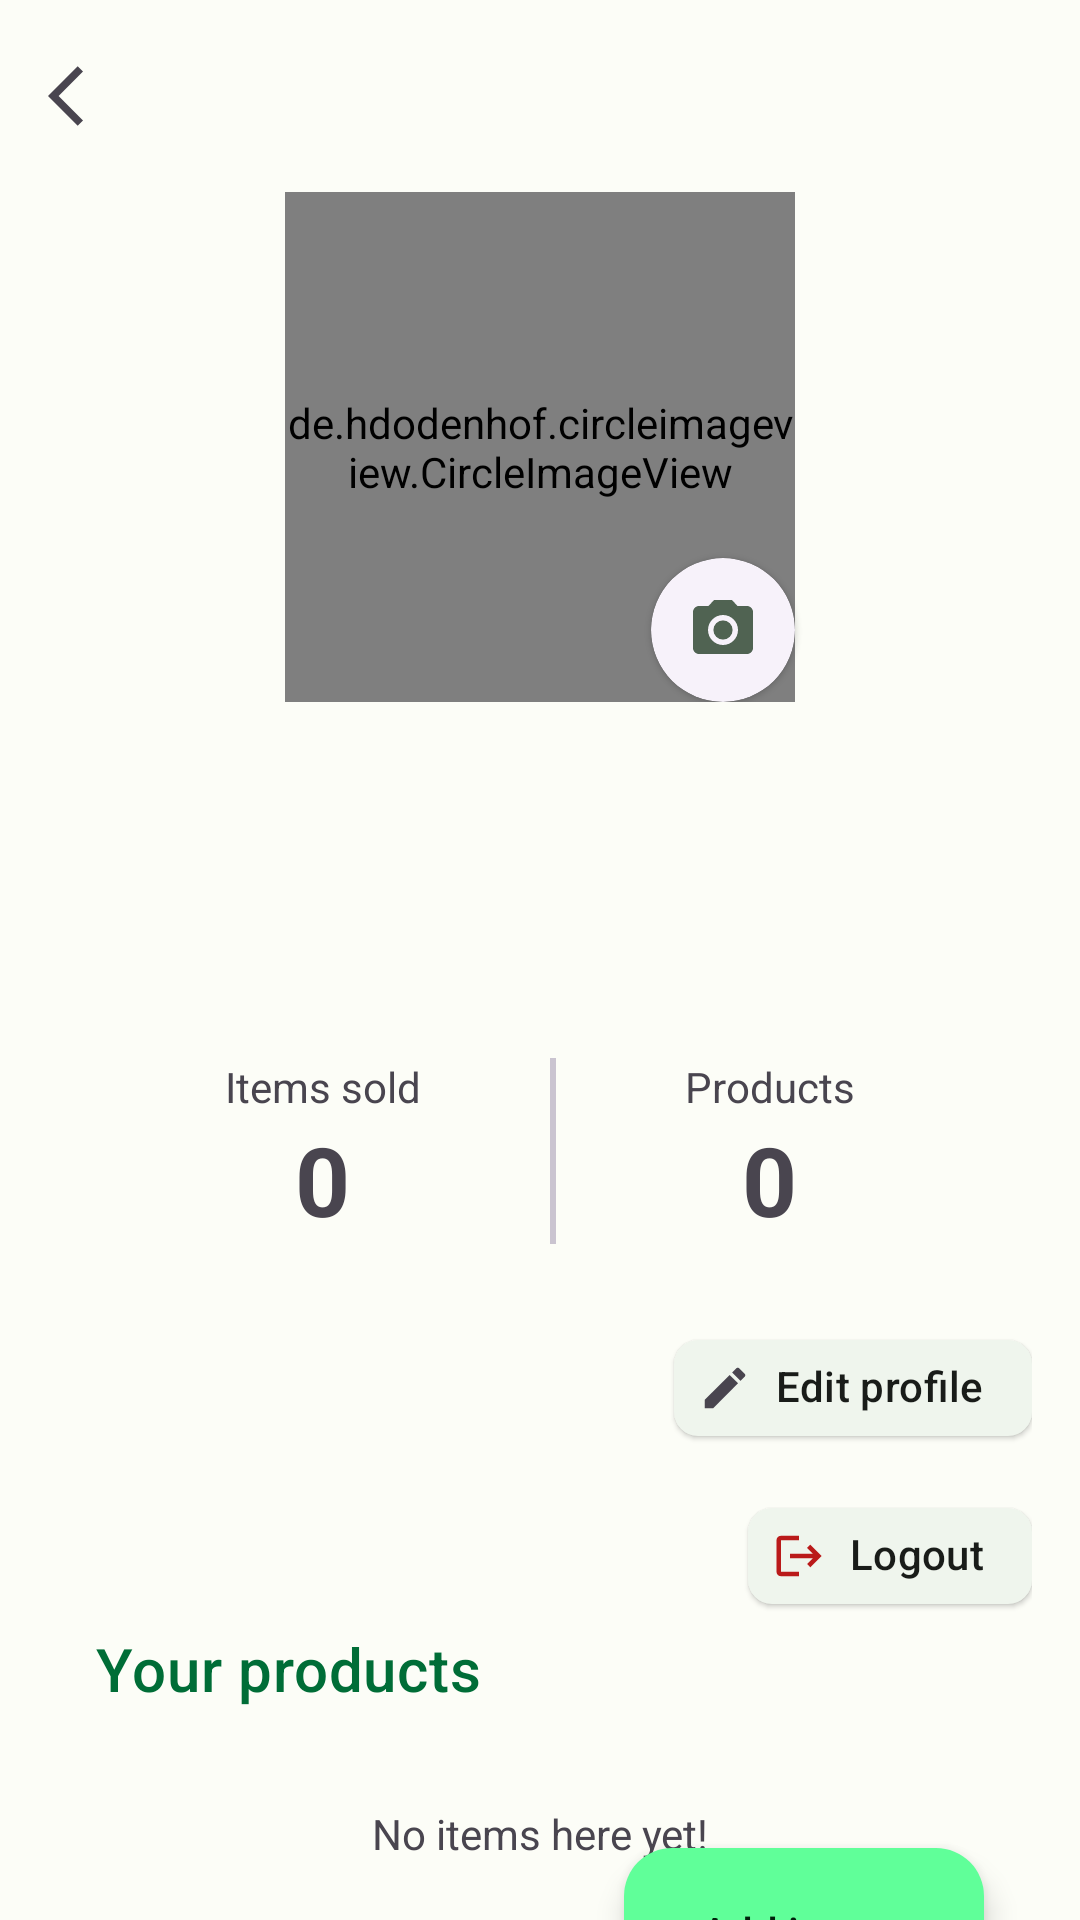

Screen size 1080px x 1920px. Icon name, then its center in pixels as point (x, y):
camera: point (723, 630)
